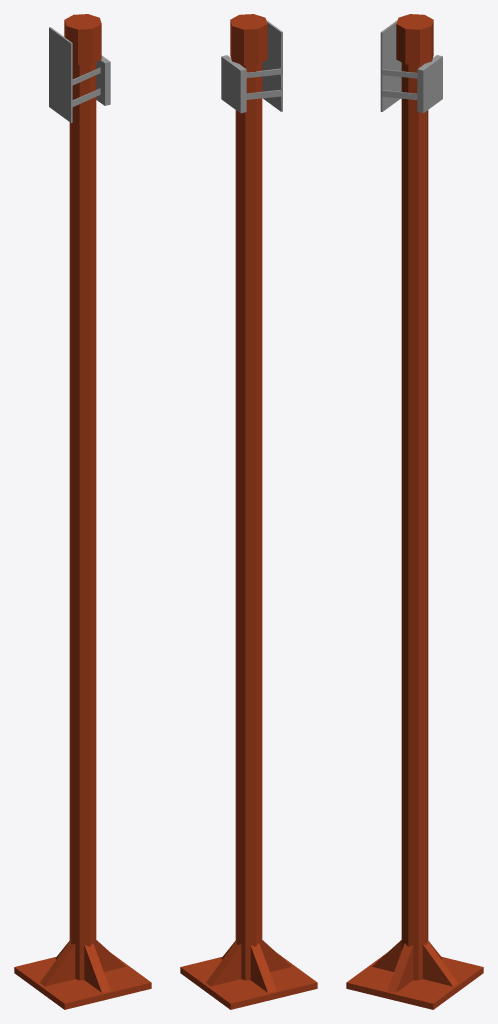
The model's file is Tiang.fbx.
3 views of the same model, side by side, from view 1: azimuth 30°, elevation 25°; view 2: azimuth 210°, elevation 25°; view 3: azimuth 330°, elevation 25° (orthographic).
Visible parts, largest first — view 1: Tiang.001; view 2: Tiang.001; view 3: Tiang.001.
Boxes of the visible parts, x1=… form: Tiang.001: x1=14, y1=14, x2=151, y2=1009; Tiang.001: x1=180, y1=14, x2=317, y2=1009; Tiang.001: x1=346, y1=14, x2=483, y2=1009.
Bounding box in the file's own units: 43.67 × 460 × 43.67.
